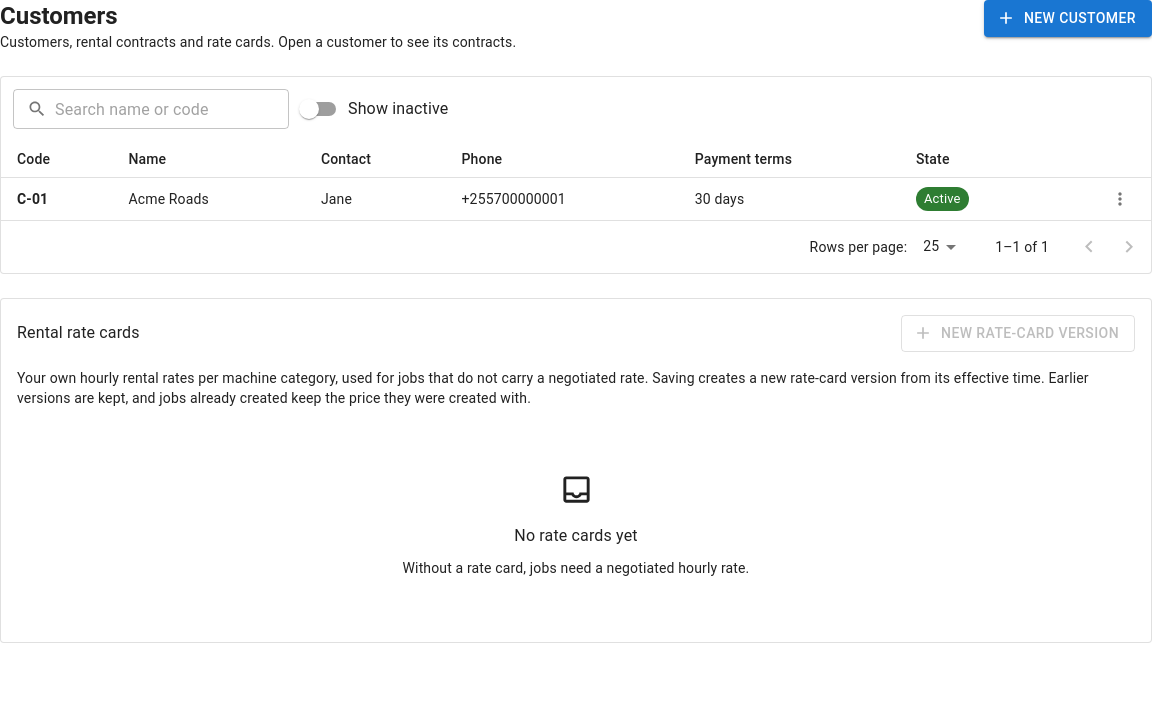
Test: customers list › shows CUSTOMER_HAS_OPEN_JOBS in the dialog
Click the button named "Actions for C-01 · Acme Roads" at coordinates (1120, 199), box left=1105, top=184, right=1135, bottom=214
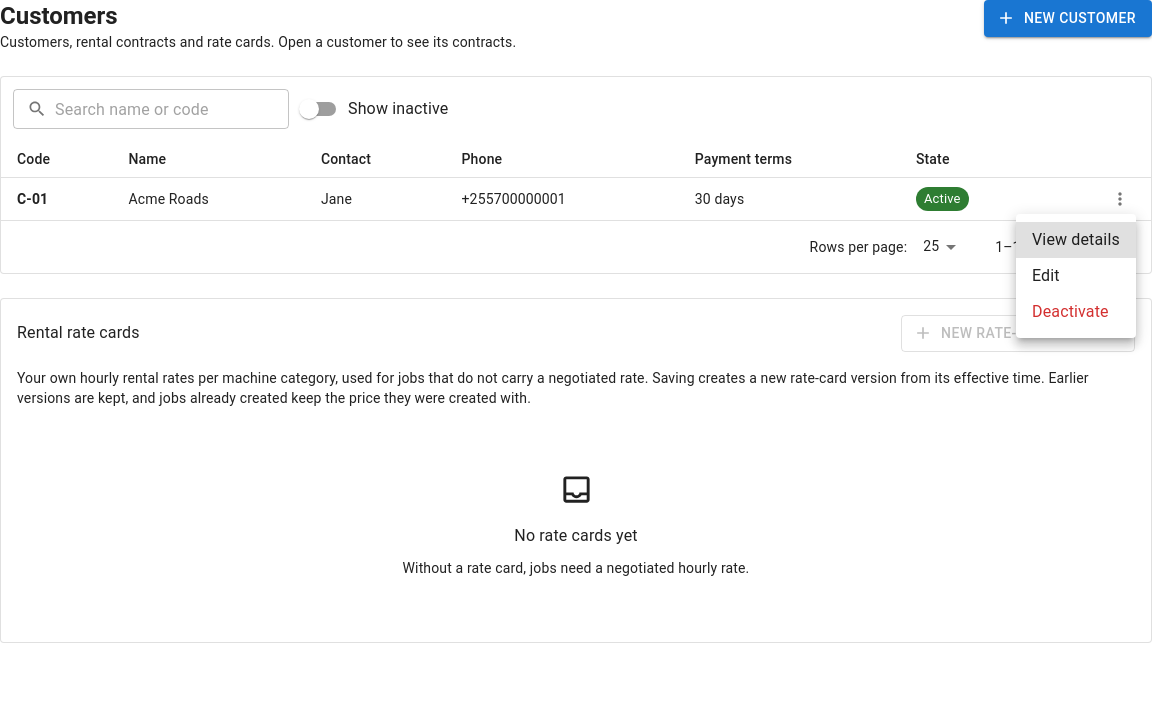
Click the menu item "Deactivate" at coordinates (1070, 312), box left=1032, top=302, right=1109, bottom=321
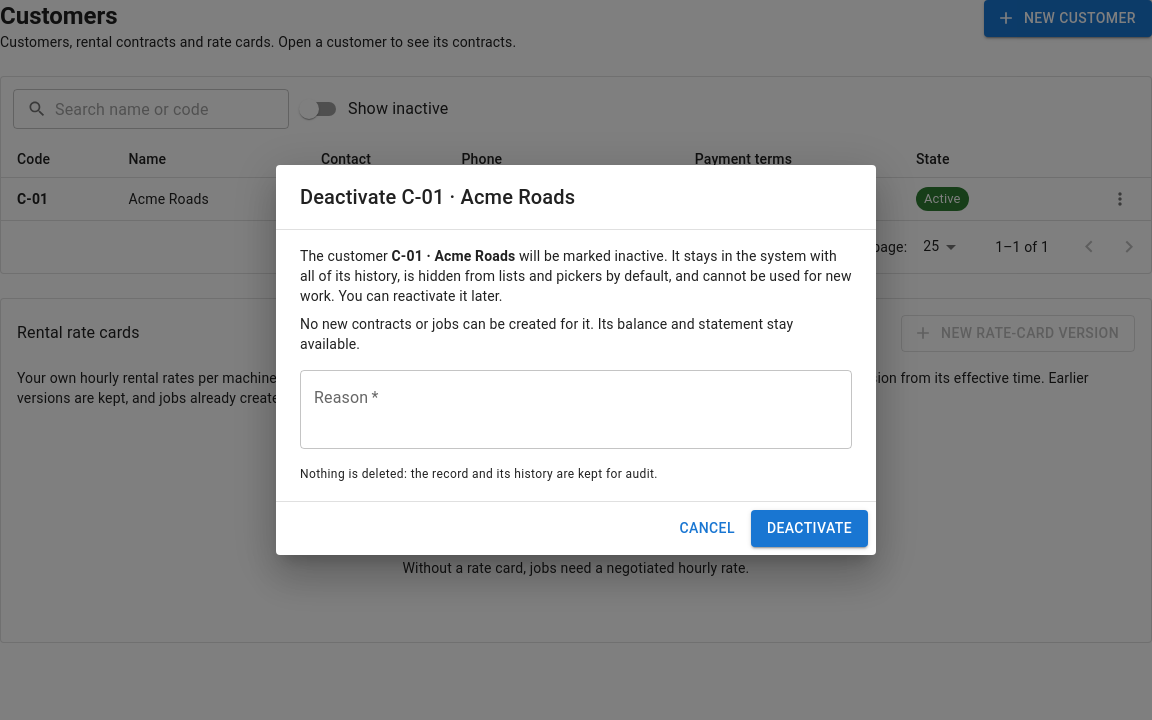
Type "Done here" into the text box labelled "Reason *" at coordinates (576, 410), box left=314, top=387, right=838, bottom=433
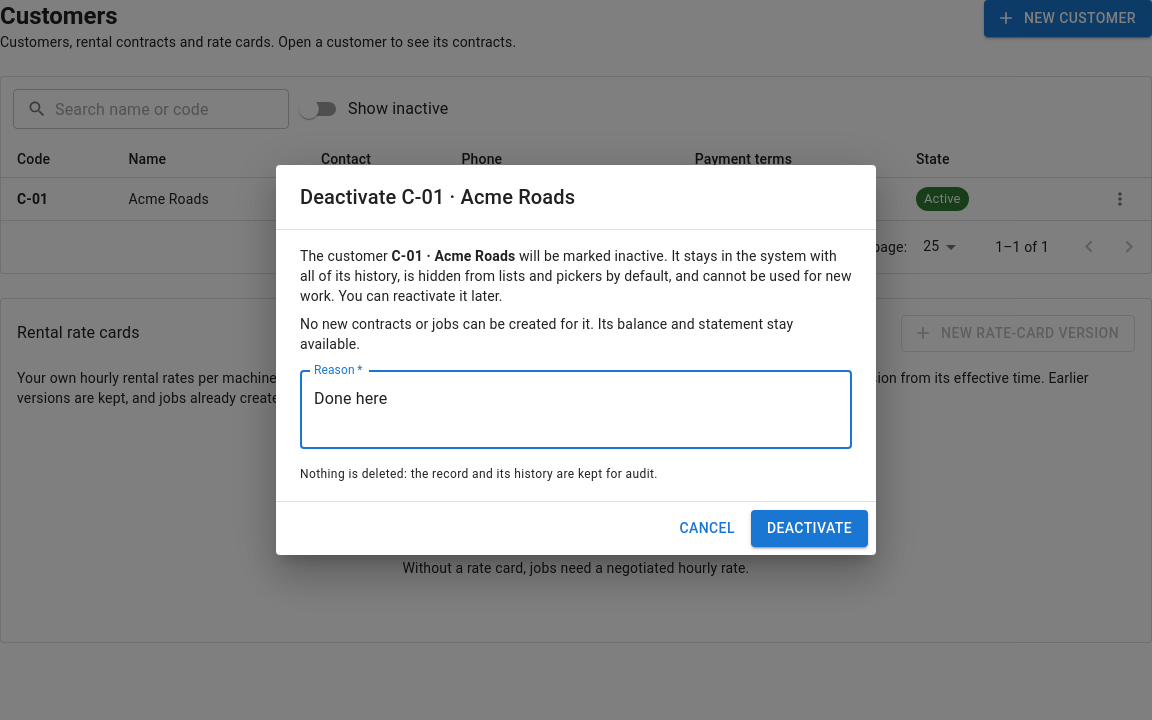
Click the button "Deactivate" at coordinates (809, 528), box left=751, top=510, right=868, bottom=547
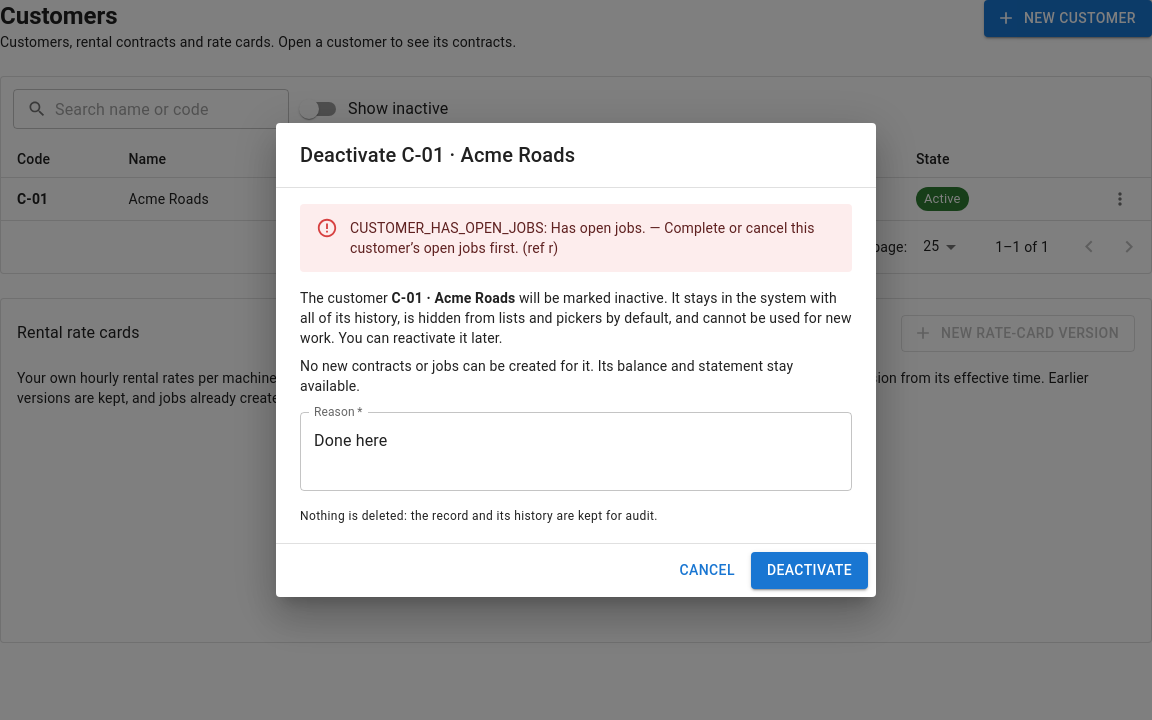
Result: the dialog is shown at left=276, top=123, right=876, bottom=597
Result: the text "CUSTOMER_HAS_OPEN_JOBS: Has open jobs. — Complete or cancel" is shown at left=350, top=220, right=815, bottom=256
